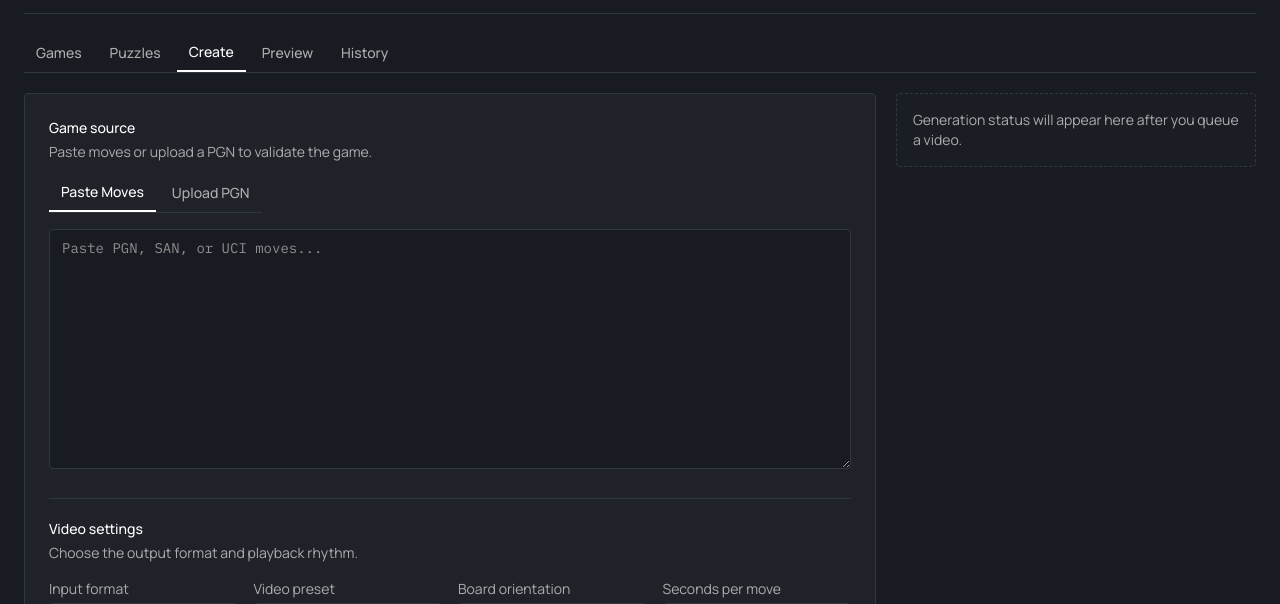
Test: ChessVideoPage › shows invalid validation errors
In the text box with placeholder "Paste PGN, SAN, or UCI moves...": (450, 349) top-left (49, 229), bottom-right (851, 469), type "1. Qh8"
(page scrolled)
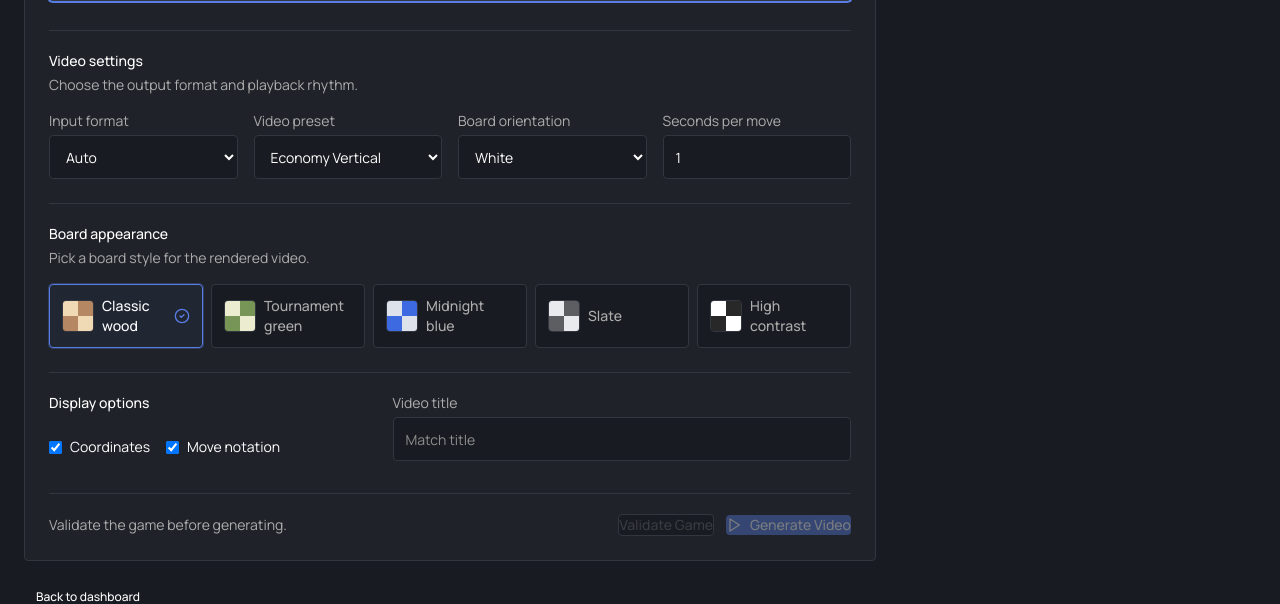
Click the button "Validate Game": (666, 525) top-left (618, 514), bottom-right (714, 536)
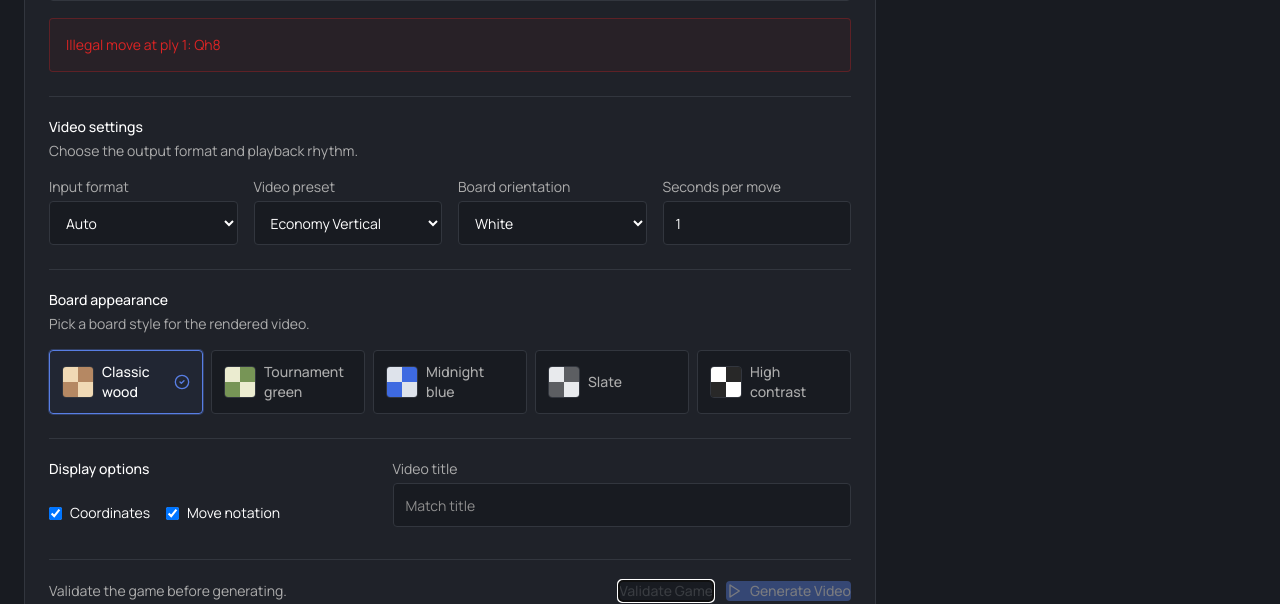
Expected: the button "Generate Video" is disabled, top-left (726, 581), bottom-right (851, 601)
Expected: the text "Illegal move at ply 1: Qh8" is shown, top-left (49, 18), bottom-right (851, 72)
